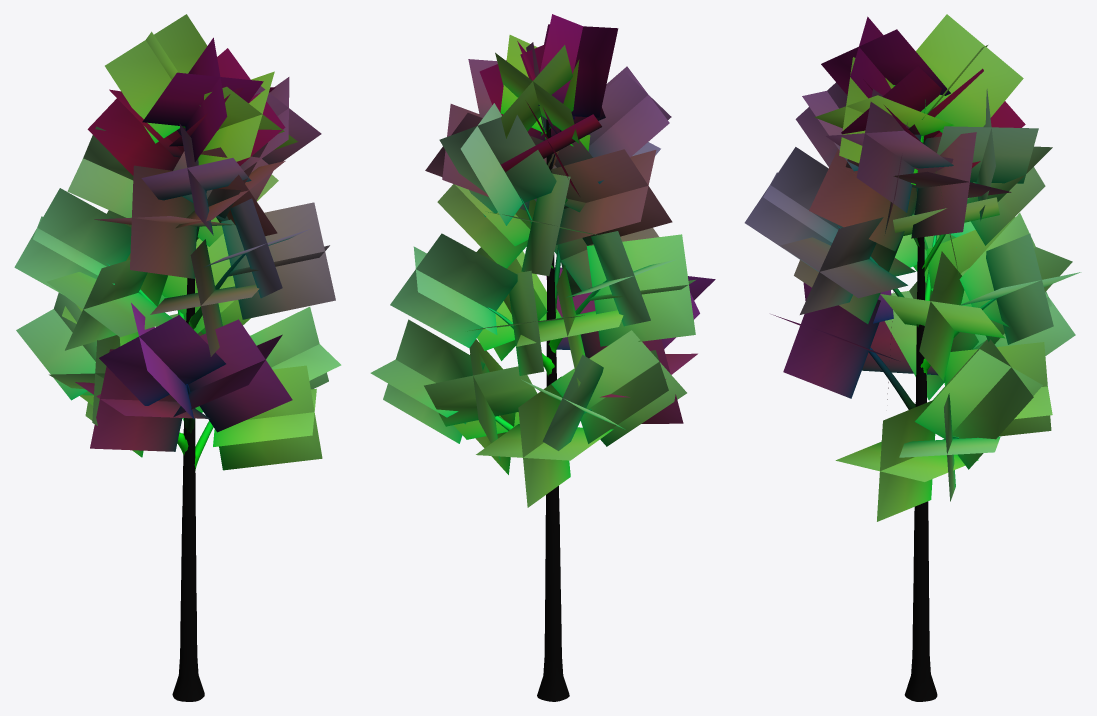
File: URP_P5_Tree_1_LOD_1.fbx
3 views of the same model, side by side, from view 1: azimuth 30°, elevation 25°; view 2: azimuth 150°, elevation 25°; view 3: azimuth 270°, elevation 25° (orthographic).
Visible parts, largest first — view 1: Tree_1_LOD_1; view 2: Tree_1_LOD_1; view 3: Tree_1_LOD_1.
Part boxes in pixels (left/top/right/bottom): Tree_1_LOD_1: left=14, top=14, right=341, bottom=701; Tree_1_LOD_1: left=370, top=14, right=715, bottom=701; Tree_1_LOD_1: left=744, top=14, right=1081, bottom=701.
Size of the model in its own units: 283 by 610 by 278.
